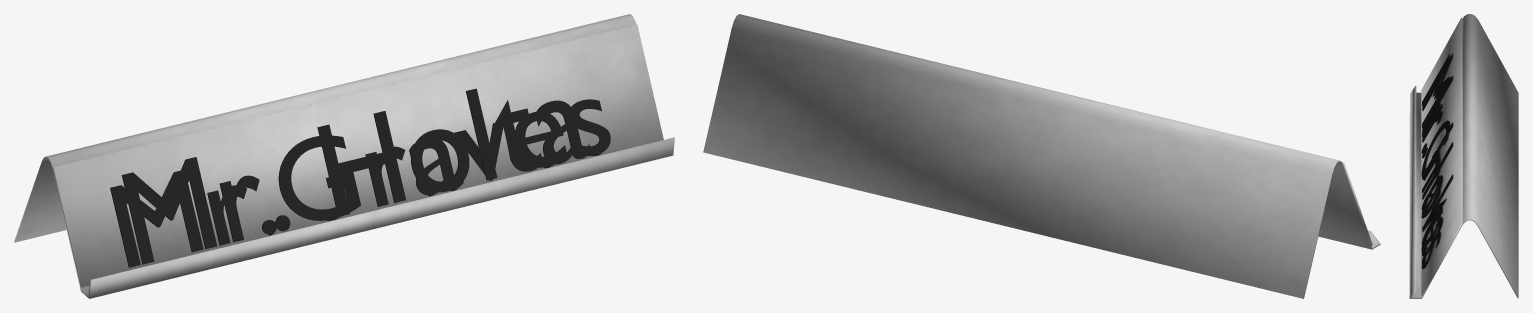
Rendered from NamePlaque_mat.fbx.
3 views of the same model, side by side, from view 1: azimuth 30°, elevation 25°; view 2: azimuth 150°, elevation 25°; view 3: azimuth 270°, elevation 25° (orthographic). The views are drawn at different scales.
Parts seen in each view (by area): view 1: NamePlaque, Text.002, Text.001; view 2: NamePlaque; view 3: NamePlaque, Text.002, Text.001.
Boxes of the visible parts, x1=… form: NamePlaque: x1=14, y1=14, x2=674, y2=298; Text.002: x1=110, y1=99, x2=610, y2=267; Text.001: x1=121, y1=88, x2=589, y2=264; NamePlaque: x1=703, y1=14, x2=1380, y2=298; NamePlaque: x1=1409, y1=14, x2=1518, y2=298; Text.002: x1=1421, y1=54, x2=1450, y2=269; Text.001: x1=1422, y1=53, x2=1453, y2=262.
Size of the model in its own units: 505 by 90.97 by 112.
